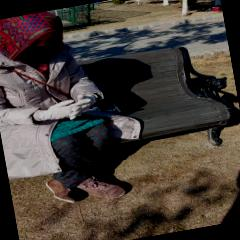gloved: (39, 98, 90, 124), (67, 92, 100, 119)
